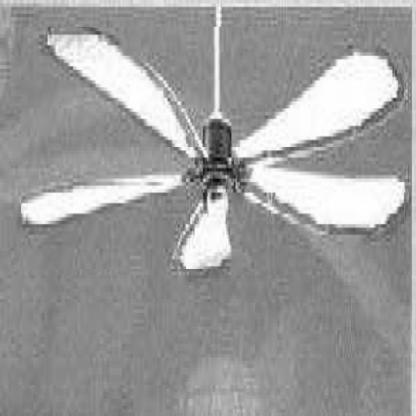ceiling-fan: (21, 27, 405, 270)
